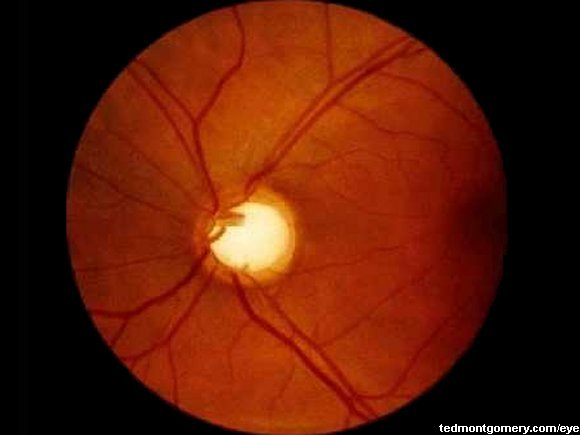Glaucoma section-1: (225, 213, 276, 259)
Glaucoma section-2: (192, 188, 307, 281)
